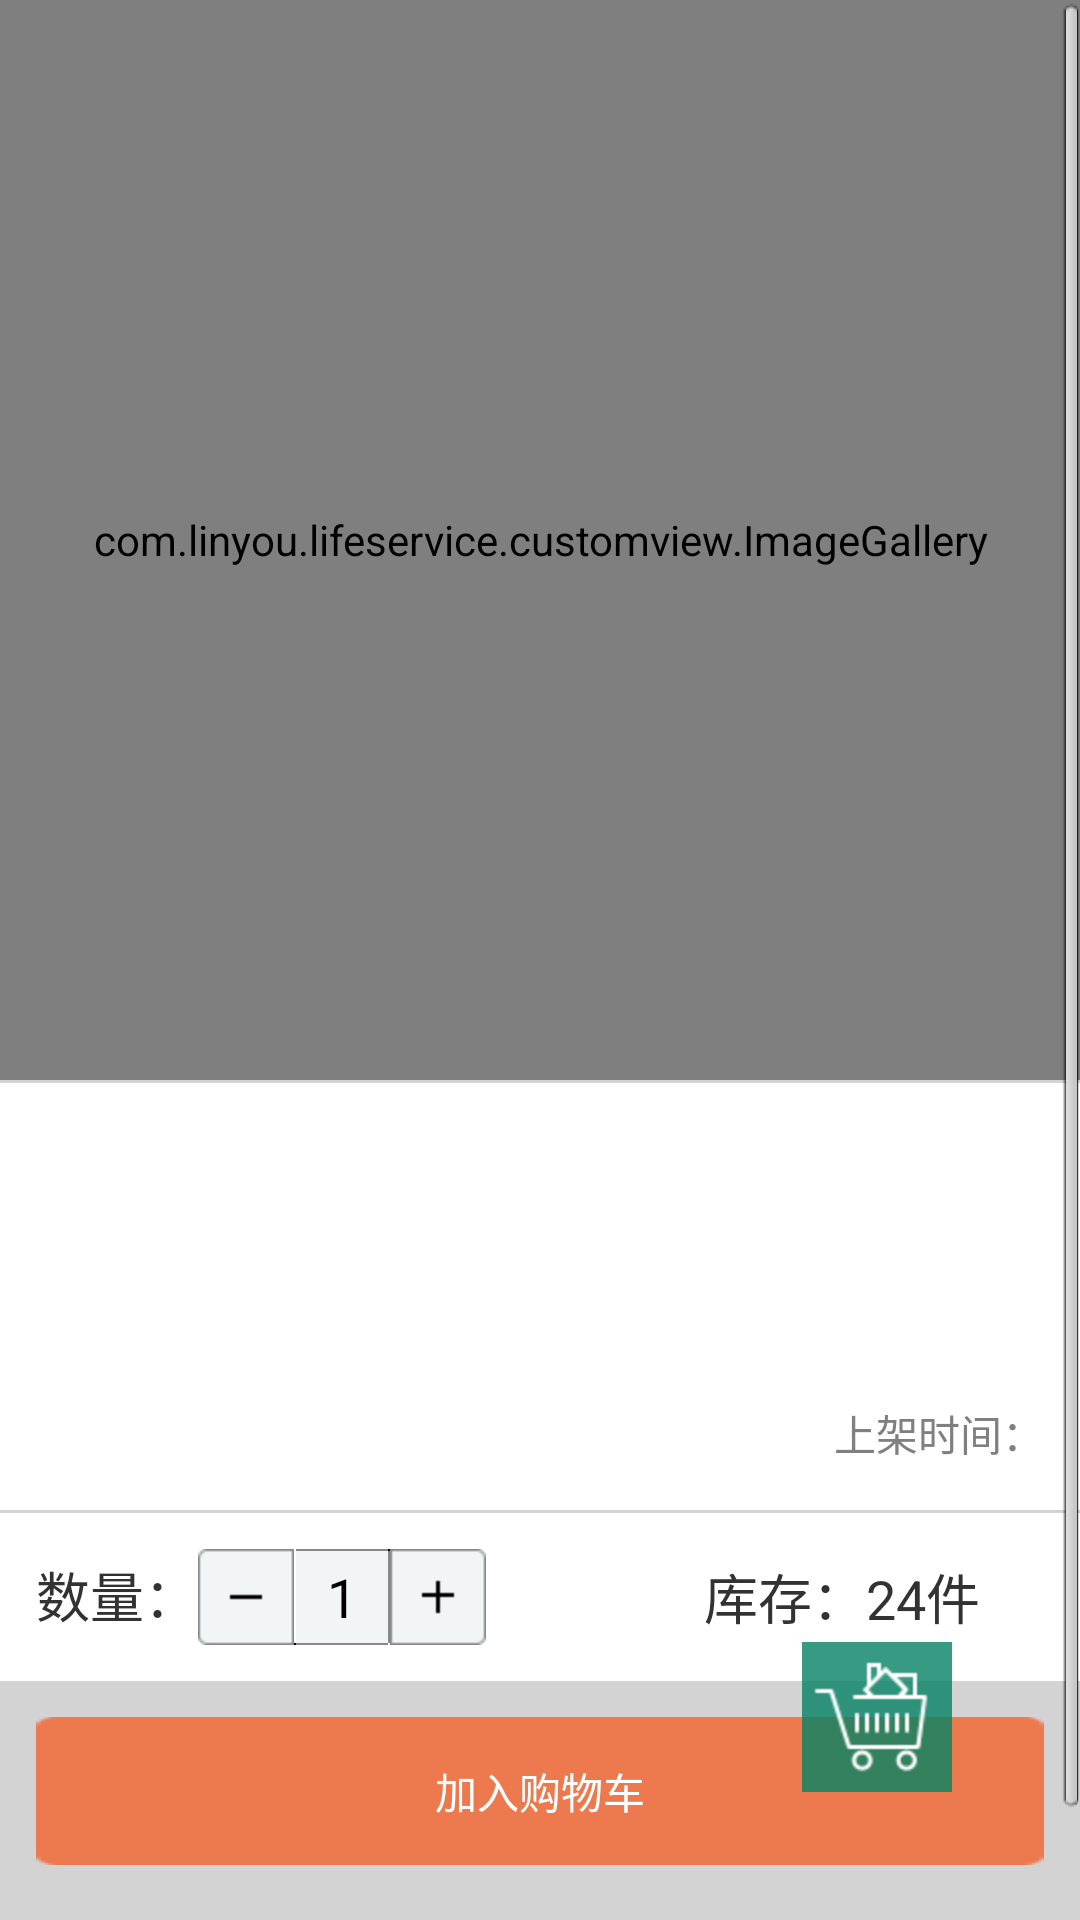

Icon click points for this 1080px×1920px phone screenshot, format [x,y]:
plus: [438,1597]
shoppingcar: [877,1717]
sub: [246,1597]
